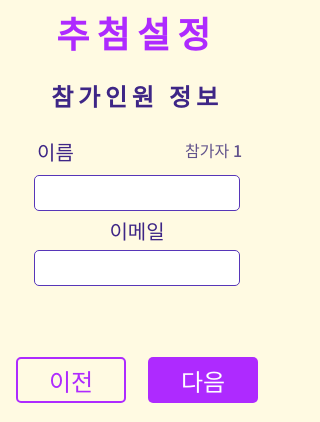
Test: 경품추첨 모드에서 참가자 명을 잘못 입력했을 때, 올바른 에러메시지 출력하기
Type "John!Doe" into the field labelled "이름".
click(137, 193); type("John!Doe")  # box [34,175,240,211]
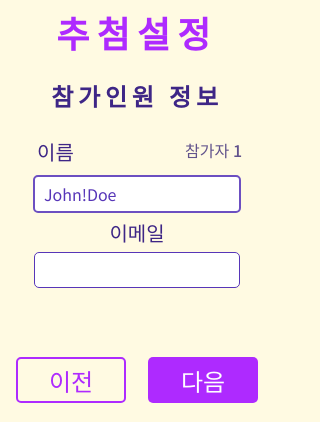
Type "john@doe.com" into the field labelled "이메일".
click(137, 270); type("john@doe.com")  # box [34,252,240,288]
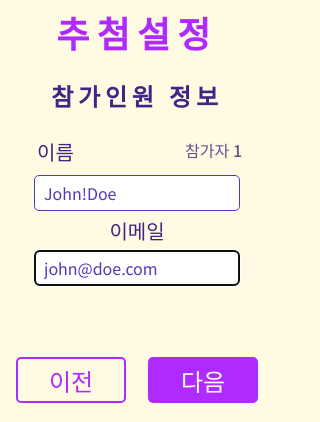
Click the button "다음".
click(203, 380)  # box [148,357,258,403]
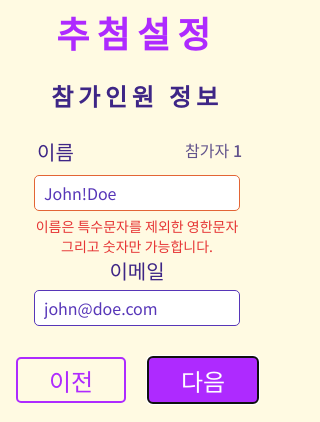
Result: the text "이름은 특수문자를 제외한 영한문자 그리고 숫자만 가능합니다." is shown at [32,216,242,256]
